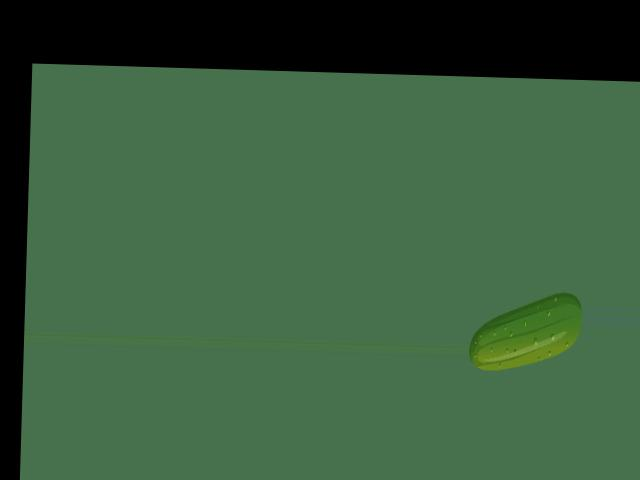cucumber: (468, 289, 582, 372)
